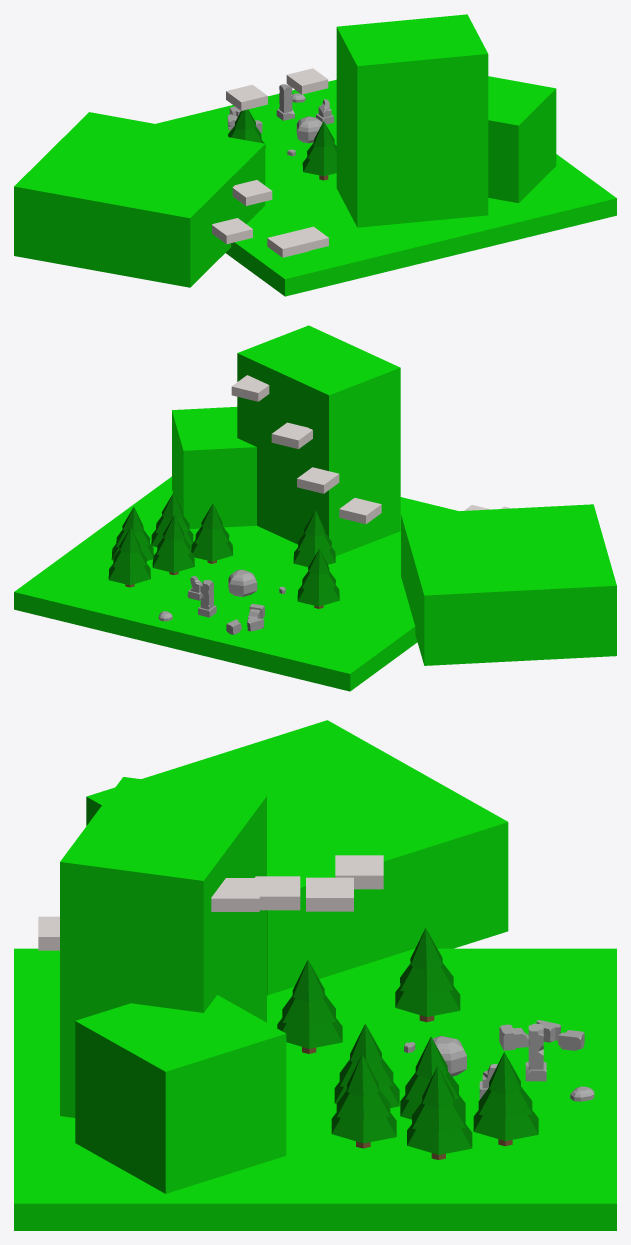
The model's file is island_1.fbx.
3 views of the same model, one above another, from view 1: azimuth 30°, elevation 25°; view 2: azimuth 150°, elevation 25°; view 3: azimuth 270°, elevation 25° (orthographic). The views are drawn at different scales.
Visible parts, largest first — view 1: Island__2_, SmallPlatform__9_, object2_6, object1_5; view 2: Island__2_, object2_6, SmallPlatform__9_, object1_5; view 3: Island__2_, object2_6, SmallPlatform__9_, object1_5.
Part boxes in pixels (x1,y1,x2,y2): Island__2_: (14, 14, 616, 296); SmallPlatform__9_: (212, 68, 328, 257); object2_6: (228, 109, 336, 180); object1_5: (227, 84, 334, 156); Island__2_: (14, 325, 616, 691); object2_6: (108, 493, 339, 608); SmallPlatform__9_: (231, 375, 511, 524); object1_5: (158, 569, 285, 634); Island__2_: (14, 720, 616, 1230); object2_6: (277, 928, 538, 1159); SmallPlatform__9_: (38, 855, 383, 950); object1_5: (404, 1020, 594, 1101).
Size of the model in its own units: 3033 by 1030 by 2000.
Materials: 1 (1 with a texture image).
